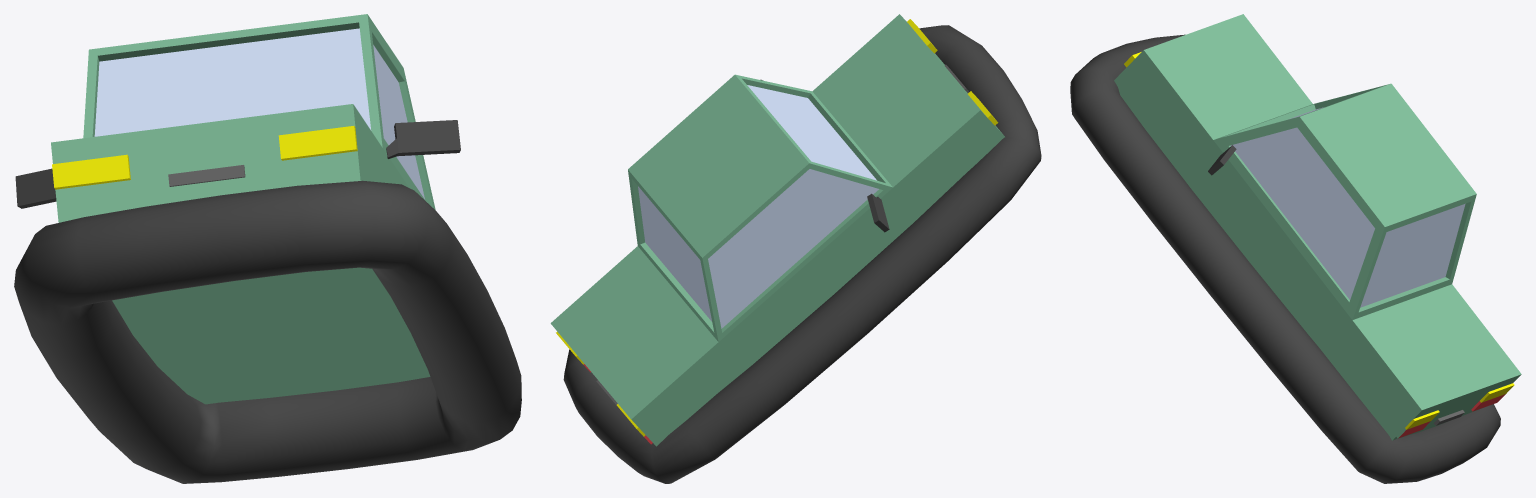
The model's file is car1.fbx.
3 views of the same model, side by side, from view 1: azimuth 30°, elevation 25°; view 2: azimuth 150°, elevation 25°; view 3: azimuth 270°, elevation 25° (orthographic). The views are drawn at different scales.
Parts seen in each view (by area): view 1: airCussion, car, sideMirrorLeft, sideMirrorRight; view 2: car, airCussion; view 3: car, airCussion.
Boxes of the visible parts, x1,y1,x2,y2 form: airCussion: (14,180,521,483); car: (51,14,435,404); sideMirrorLeft: (386,120,460,158); sideMirrorRight: (15,168,56,208); car: (550,14,1004,446); airCussion: (563,25,1041,483); car: (1114,14,1521,440); airCussion: (1070,34,1500,483).
Bounding box in the file's own units: 101 × 91.71 × 104.
